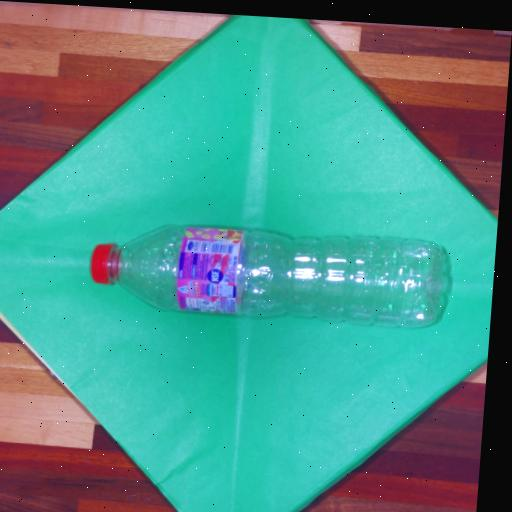bottle: (91, 225, 448, 326)
